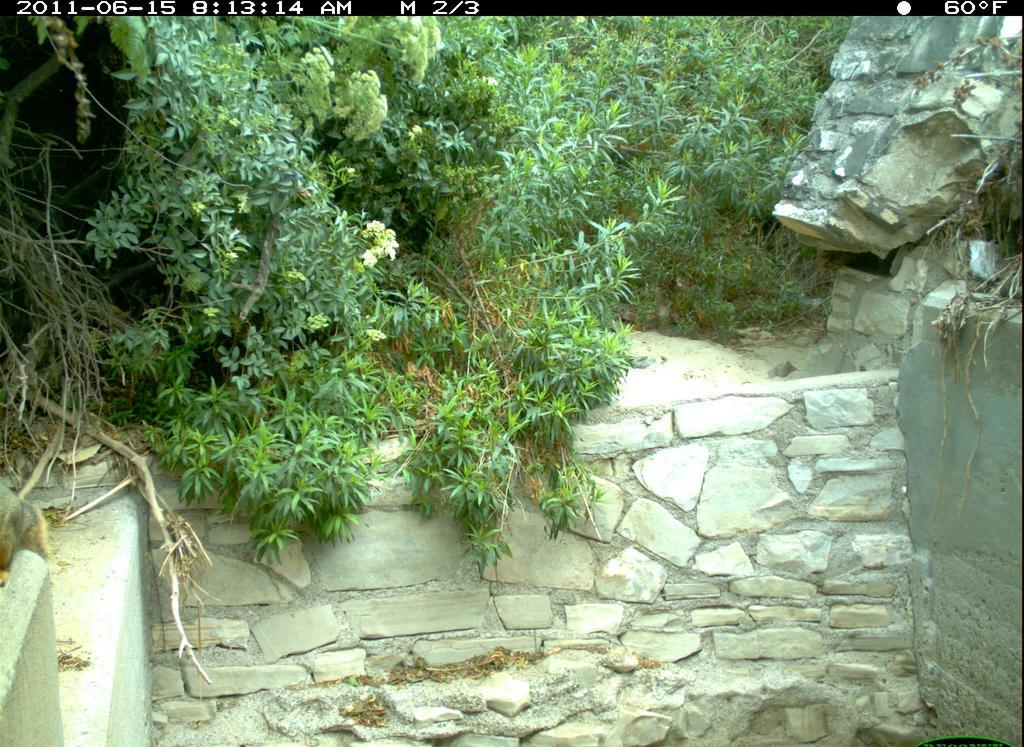squirrel: (7, 474, 54, 591)
